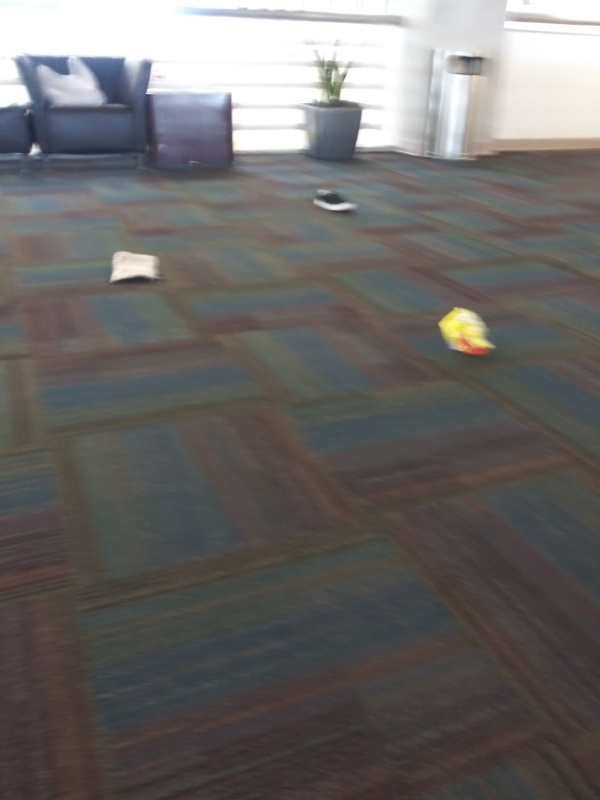bag: (433, 305, 504, 361), (104, 248, 165, 286)
